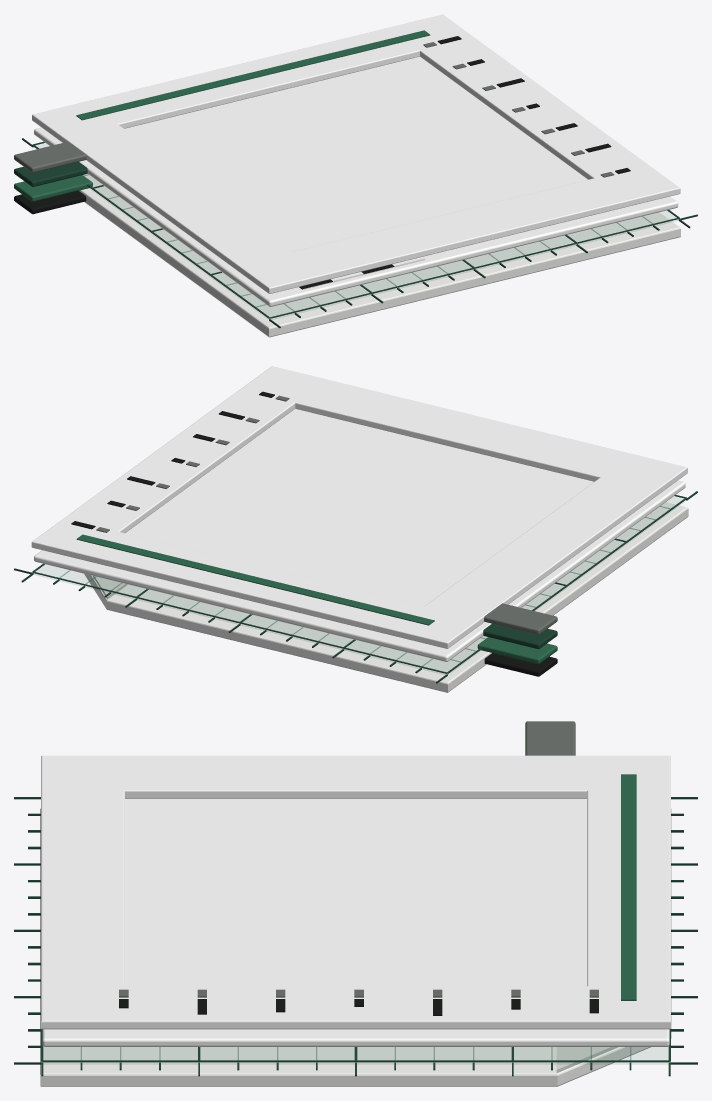
The model's file is inspector_stack.glb.
The picture shows the model from 3 angles, top to bottom: view 1: azimuth 30°, elevation 25°; view 2: azimuth 150°, elevation 25°; view 3: azimuth 270°, elevation 25°; orthographic projection. The views are drawn at different scales.
Parts seen in each view (by area): view 1: Stage_Plate, Properties_Frame, File_Sheet, Attribute_Header, Graticule_Meridian, Tab_Properties, Tab_CRS, Tab_Geometry, Tab_File, Attribute_Value; view 2: Stage_Plate, Properties_Frame, File_Sheet, Attribute_Header, Graticule_Meridian, Tab_Properties, Tab_CRS, Tab_Geometry, Tab_File, Attribute_Value; view 3: Stage_Plate, Properties_Frame, File_Sheet, Graticule_Meridian, Attribute_Header, Tab_Properties, Attribute_Value, File_Fold, Attribute_Key.
Part boxes in pixels (left/top/right/bottom): Stage_Plate: left=34, top=56, right=678, bottom=306; Properties_Frame: left=32, top=14, right=680, bottom=293; File_Sheet: left=79, top=174, right=680, bottom=337; Attribute_Header: left=76, top=30, right=430, bottom=120; Graticule_Meridian: left=22, top=138, right=697, bottom=328; Tab_Properties: left=14, top=141, right=86, bottom=172; Tab_CRS: left=14, top=175, right=92, bottom=201; Tab_Geometry: left=14, top=162, right=87, bottom=186; Tab_File: left=14, top=191, right=86, bottom=214; Attribute_Value: left=437, top=36, right=630, bottom=173; Stage_Plate: left=34, top=408, right=685, bottom=661; Properties_Frame: left=31, top=366, right=687, bottom=648; File_Sheet: left=84, top=502, right=688, bottom=692; Attribute_Header: left=76, top=534, right=434, bottom=625; Graticule_Meridian: left=14, top=491, right=697, bottom=683; Tab_Properties: left=484, top=603, right=557, bottom=634; Tab_CRS: left=477, top=637, right=557, bottom=664; Tab_Geometry: left=483, top=623, right=557, bottom=649; Tab_File: left=484, top=653, right=557, bottom=676; Attribute_Value: left=71, top=391, right=274, bottom=529; Stage_Plate: left=42, top=798, right=669, bottom=1046; Properties_Frame: left=41, top=755, right=670, bottom=1029; File_Sheet: left=40, top=808, right=671, bottom=1086; Graticule_Meridian: left=14, top=797, right=697, bottom=1076; Attribute_Header: left=621, top=774, right=636, bottom=1000; Tab_Properties: left=525, top=721, right=575, bottom=755; Attribute_Value: left=119, top=999, right=598, bottom=1015; File_Fold: left=556, top=1047, right=618, bottom=1072; Attribute_Key: left=119, top=989, right=598, bottom=997.
Bounding box in the file's own units: 2.36 × 0.236 × 2.18.
